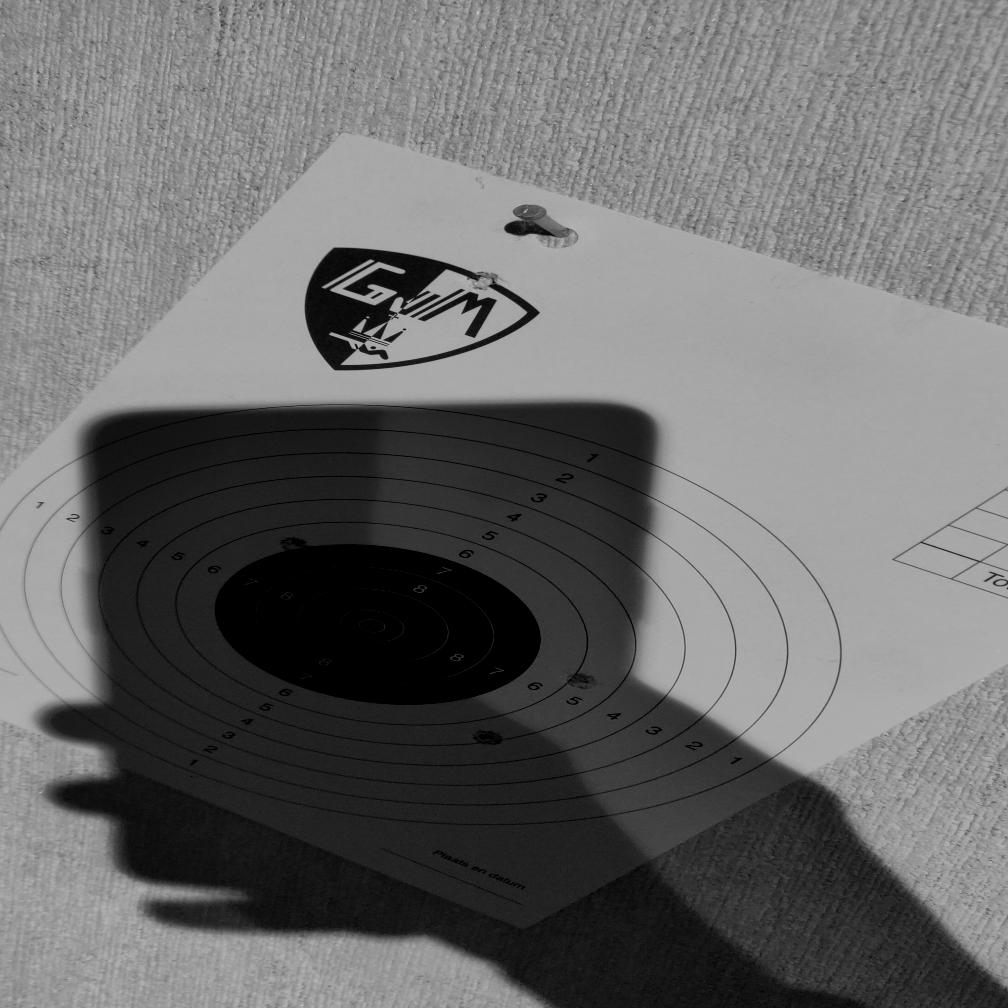0: (463, 270, 504, 291)
5: (472, 730, 508, 747), (566, 673, 597, 689)
7: (276, 536, 312, 554)
Target: (4, 406, 847, 829)
black_contour: (213, 544, 542, 706)
